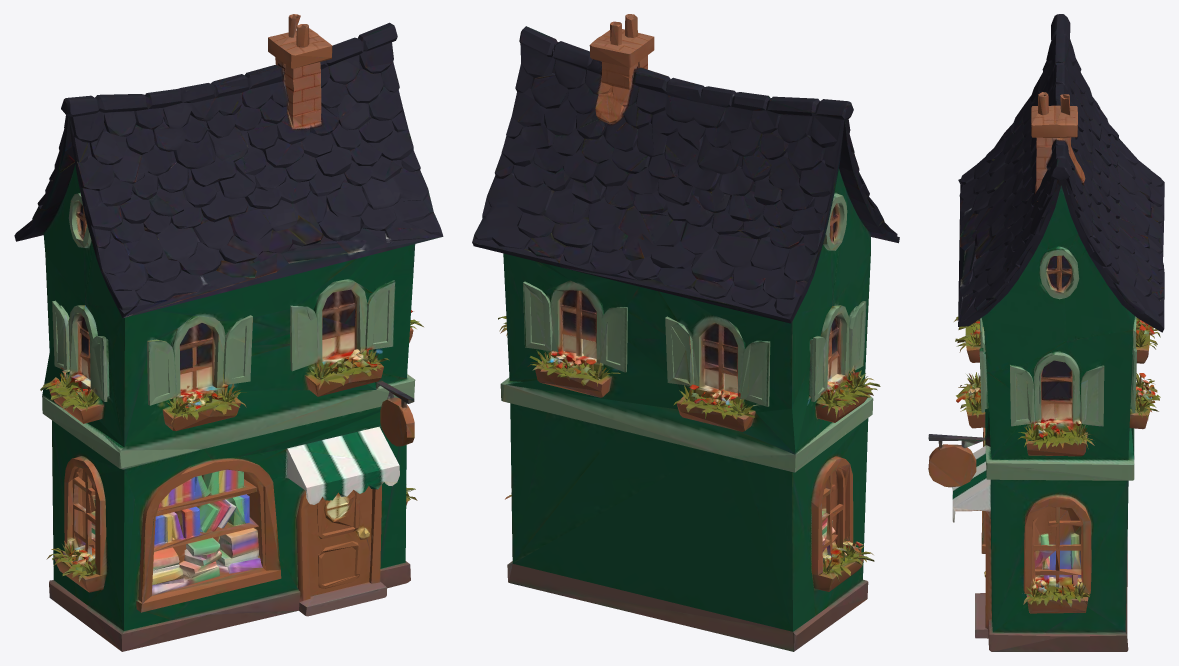
Rendered from shop_bookshop.glb.
3 renders of one model, left to right at view 1: azimuth 30°, elevation 25°; view 2: azimuth 150°, elevation 25°; view 3: azimuth 270°, elevation 25°, orthographic. The views are drawn at different scales.
Bounding box in the file's own units: 7.5 × 11 × 4.5.
Materials: 1 (1 with a texture image).
